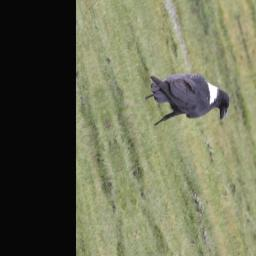Crow: (141, 46, 234, 147)
